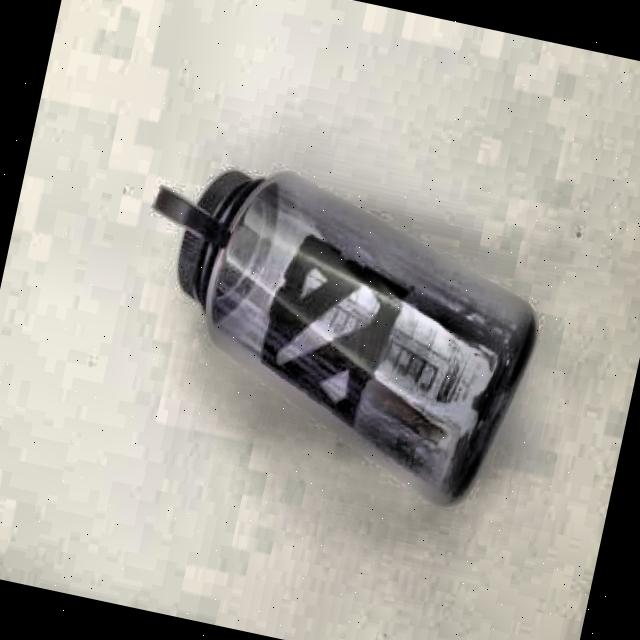plastic: (99, 136, 558, 526)
